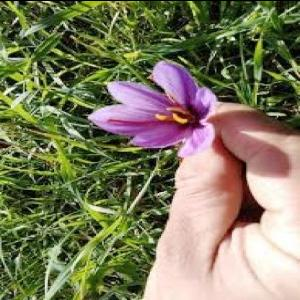Saffron: (89, 58, 219, 154)
